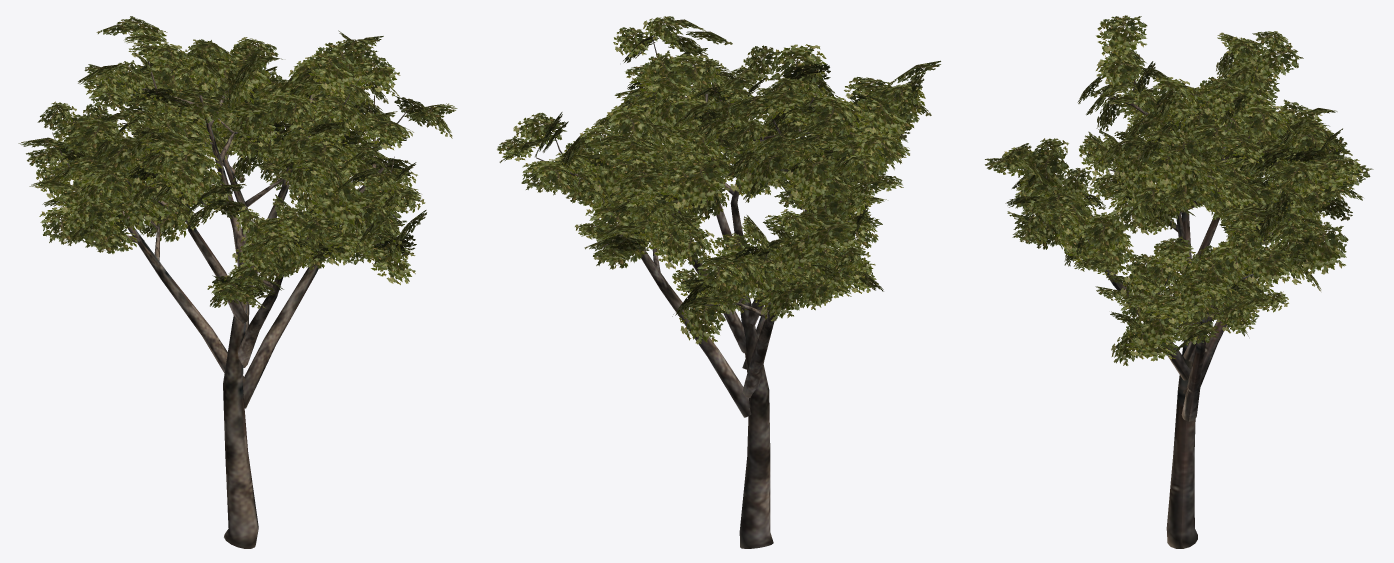
The model's file is avenue-sycamore.glb.
The picture shows the model from 3 angles, left to right: view 1: azimuth 30°, elevation 25°; view 2: azimuth 150°, elevation 25°; view 3: azimuth 270°, elevation 25°; orthographic projection. The views are drawn at different scales.
Visible parts, largest first — view 1: Frame; view 2: Frame; view 3: Frame.
Boxes of the visible parts, box(x1,y1,x2,y2) form: Frame: box(18, 16, 457, 548); Frame: box(497, 16, 940, 548); Frame: box(985, 15, 1373, 548).
Bounding box in the file's own units: 6.38 × 7.67 × 5.86.
2 materials, 2 textured.
